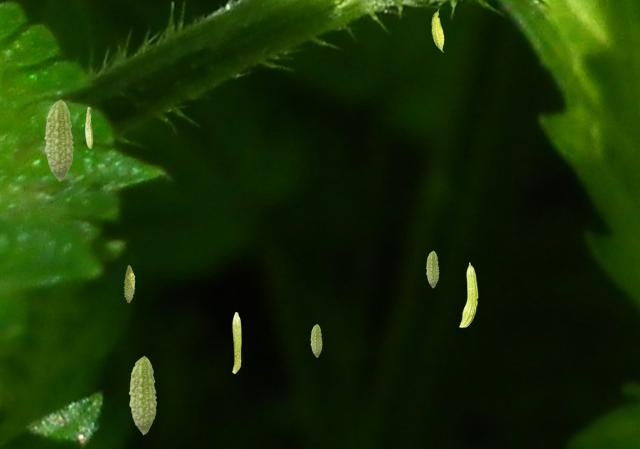ampalaya: (44, 99, 74, 182), (128, 355, 157, 435), (459, 262, 478, 328), (431, 8, 444, 52), (232, 311, 241, 374), (425, 250, 439, 288), (123, 265, 135, 303), (310, 323, 322, 357), (84, 106, 93, 149)
